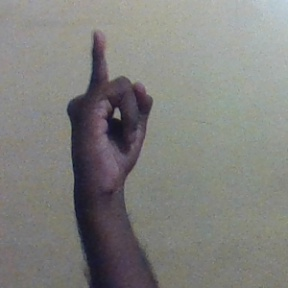I: (69, 27, 157, 196)
